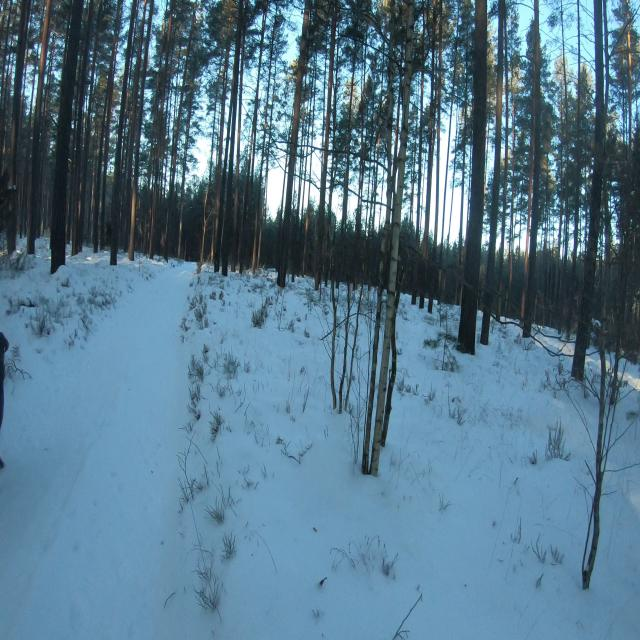bush: (582, 345, 606, 589)
trees: (369, 0, 414, 475), (572, 0, 605, 381), (370, 1, 395, 475), (458, 0, 487, 354), (277, 0, 310, 287), (51, 0, 83, 273), (481, 0, 505, 344), (165, 4, 196, 259), (72, 0, 102, 254), (218, 0, 244, 275), (110, 1, 137, 265), (128, 0, 154, 259), (315, 3, 338, 290), (96, 0, 122, 249), (149, 0, 174, 257), (27, 0, 52, 254), (6, 0, 31, 253), (523, 0, 541, 337), (241, 4, 267, 236), (122, 0, 147, 231), (210, 41, 230, 259), (422, 0, 437, 260), (256, 17, 276, 207), (341, 41, 356, 249), (432, 0, 443, 264), (200, 106, 215, 260), (178, 99, 192, 256), (415, 70, 424, 253), (252, 208, 260, 274), (214, 81, 218, 93)
